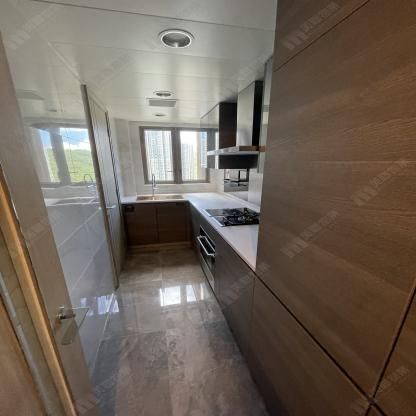Cupboard: (216, 0, 416, 416), (121, 201, 199, 262)
Exhaust Hood: (206, 145, 259, 155)
Faucet: (149, 174, 159, 197)
Oven: (195, 214, 218, 297)
Sink: (135, 195, 184, 201)
Stove: (202, 206, 260, 226)
